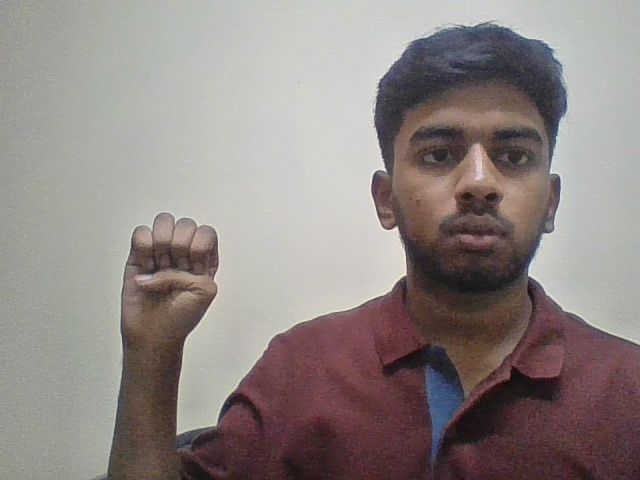E: (109, 198, 231, 356)
